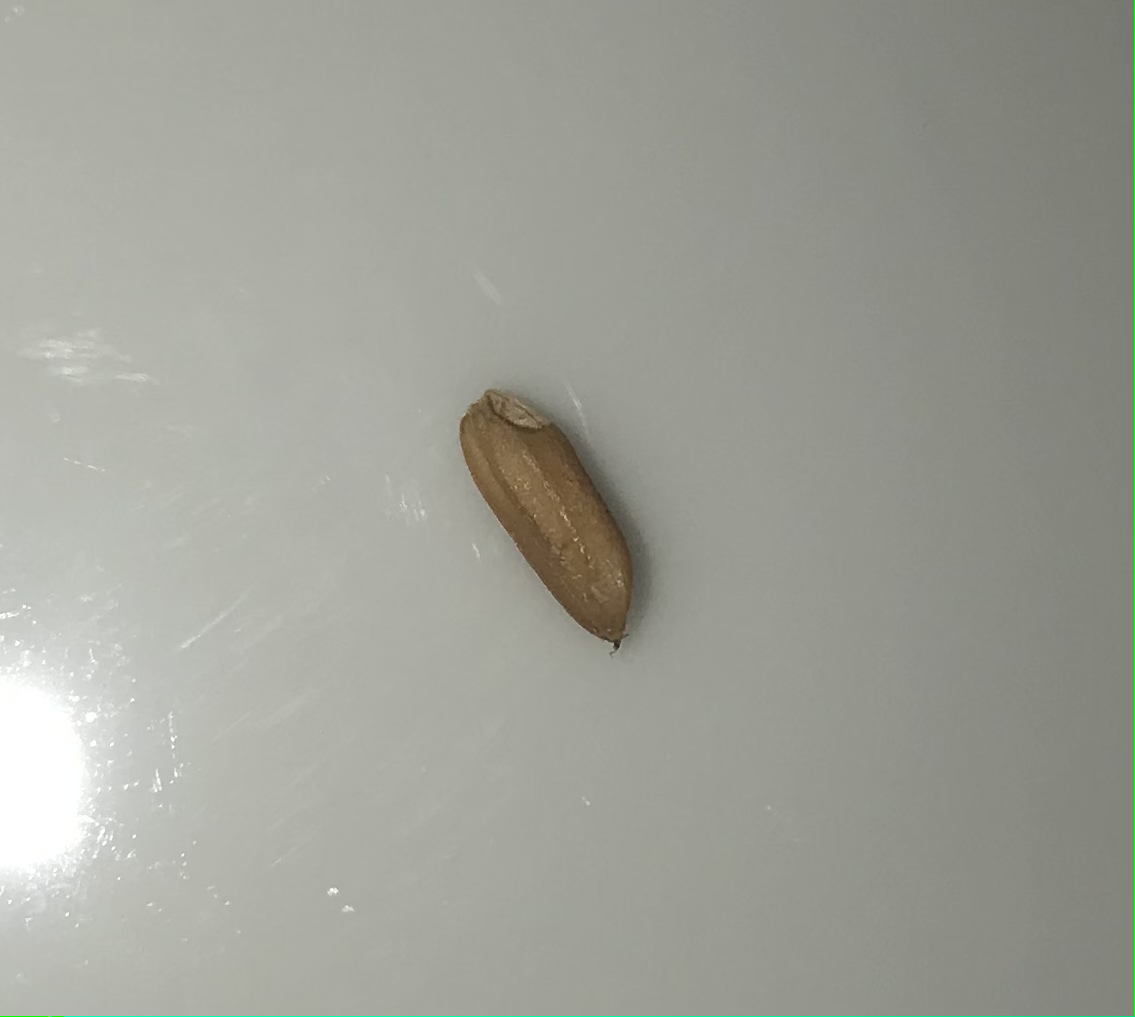Gao Lut Dien Bien: (446, 389, 642, 672)
